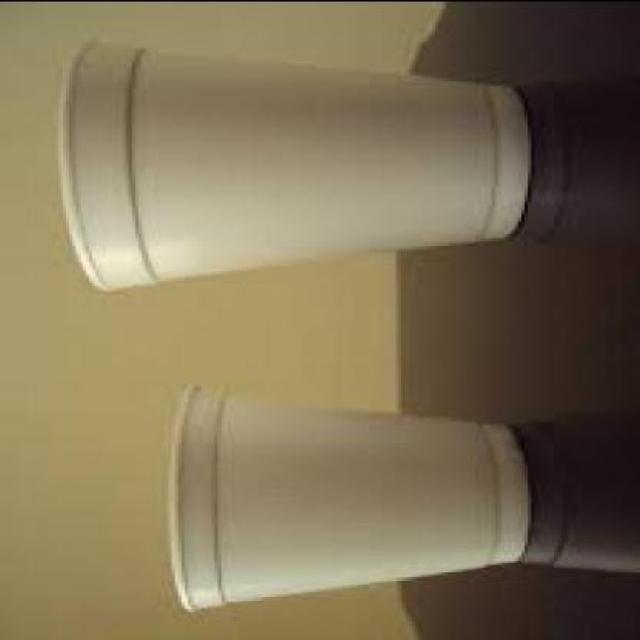PAPER: (57, 39, 528, 295), (168, 386, 528, 616)
